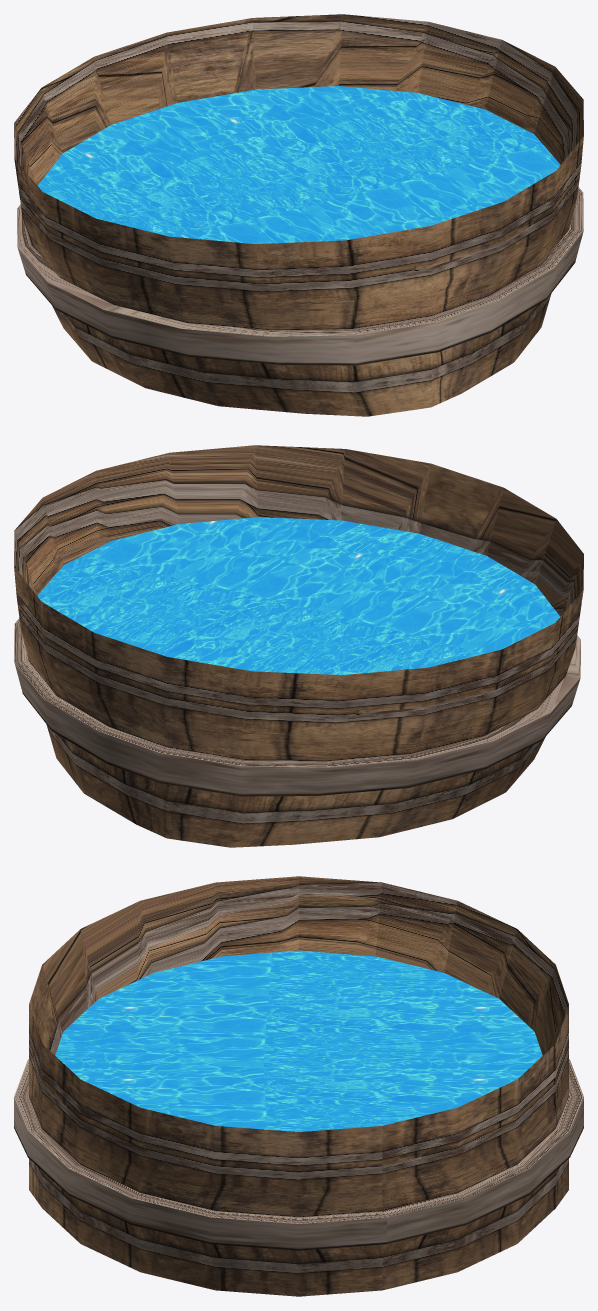
Rendered from tina.obj.
The picture shows the model from 3 angles, top to bottom: view 1: azimuth 30°, elevation 25°; view 2: azimuth 150°, elevation 25°; view 3: azimuth 270°, elevation 25°; orthographic projection. The views are drawn at different scales.
Visible parts, largest first — view 1: pCylinder5; view 2: pCylinder5; view 3: pCylinder5.
Boxes of the visible parts, <box> form: pCylinder5: <box>14,14,583,416</box>; pCylinder5: <box>14,445,583,847</box>; pCylinder5: <box>14,876,583,1296</box>.
Bounding box in the file's own units: 11.71 × 3.96 × 11.02.
Materials: 3 (2 with a texture image).
